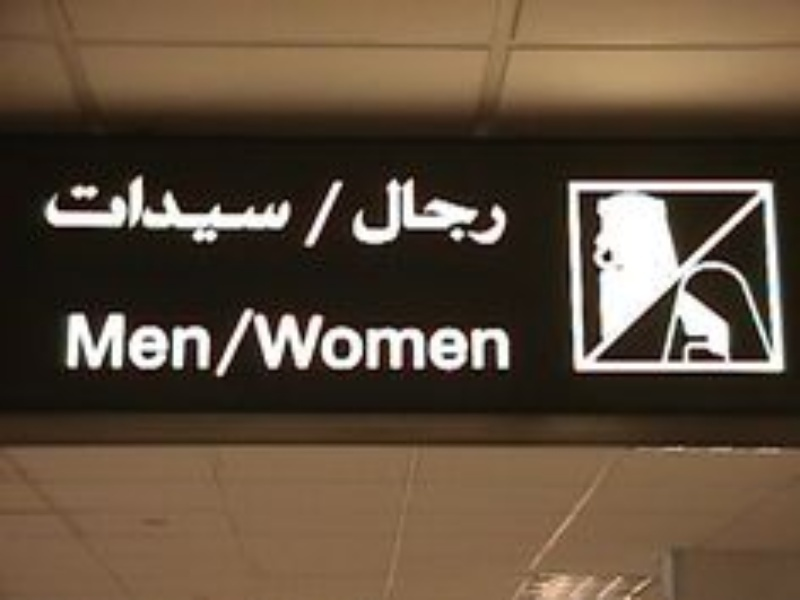text: (225, 299, 240, 384), (305, 173, 320, 255), (321, 173, 336, 255), (353, 170, 368, 251), (369, 170, 384, 251), (385, 170, 400, 251), (401, 170, 416, 251), (417, 170, 432, 251), (433, 170, 448, 251), (449, 170, 464, 251), (465, 170, 480, 251), (481, 170, 496, 251), (241, 299, 255, 384), (49, 170, 64, 248), (65, 170, 80, 248), (81, 170, 96, 248), (97, 170, 112, 248), (113, 170, 128, 248), (129, 170, 144, 248), (145, 170, 160, 248), (161, 170, 176, 248), (177, 170, 192, 248), (193, 170, 208, 248), (209, 170, 224, 248), (225, 170, 240, 248), (241, 170, 256, 248), (257, 170, 272, 248), (273, 170, 288, 248), (211, 299, 224, 384), (257, 312, 272, 377), (273, 312, 288, 377), (289, 312, 304, 377), (305, 312, 320, 377), (321, 312, 336, 377), (337, 312, 352, 377), (353, 312, 368, 377), (369, 312, 384, 377), (385, 312, 400, 377), (401, 312, 416, 377), (417, 312, 432, 377), (433, 312, 448, 377), (449, 312, 464, 377), (465, 312, 480, 377), (481, 312, 496, 377), (497, 312, 512, 377), (497, 170, 509, 251), (65, 309, 80, 373), (81, 309, 96, 373), (97, 309, 112, 373), (113, 309, 128, 373), (129, 309, 144, 373), (145, 309, 160, 373), (161, 309, 176, 373), (177, 309, 192, 373), (193, 309, 208, 373), (337, 173, 346, 255), (41, 170, 48, 248), (299, 173, 304, 255), (251, 312, 256, 377), (289, 170, 292, 248), (62, 309, 64, 373), (209, 309, 211, 373)
